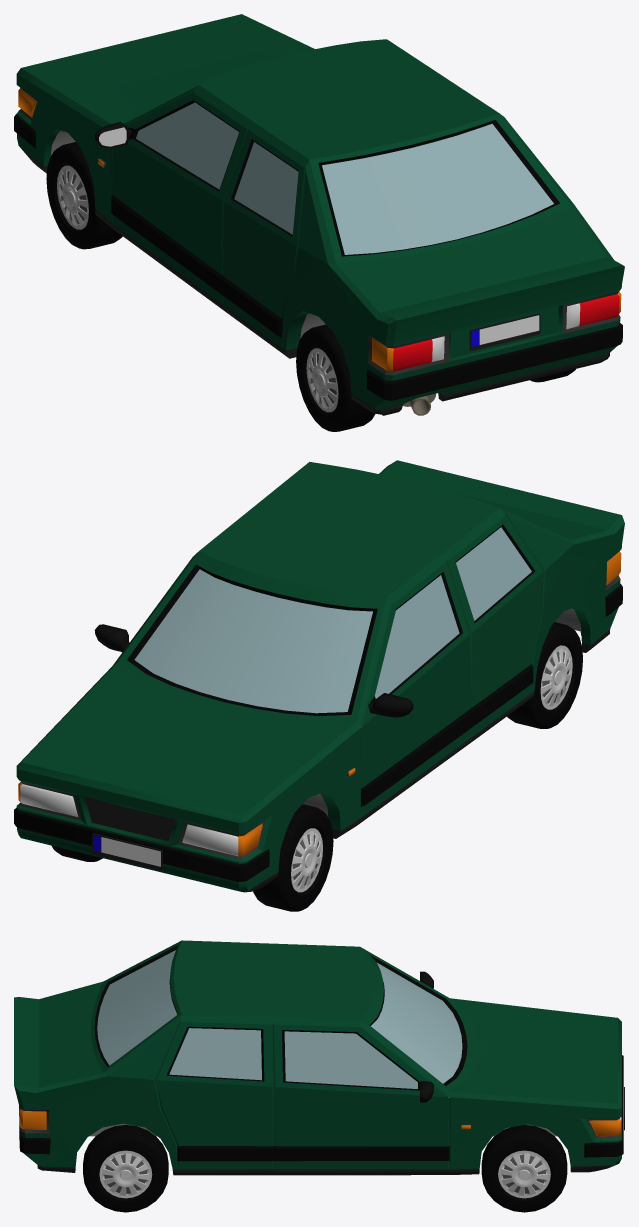
The model's file is car.glb.
3 views of the same model, one above another, from view 1: azimuth 30°, elevation 25°; view 2: azimuth 150°, elevation 25°; view 3: azimuth 270°, elevation 25° (orthographic). The views are drawn at different scales.
Parts seen in each view (by area): view 1: Body, Wheel2, Wheel0, NumberPlateBack; view 2: Body, Wheel0, Wheel2, NumberPlateFront; view 3: Body, Wheel1, Wheel3.
Boxes of the visible parts, box(x1,y1,x2,y2) form: Body: box(14, 14, 624, 415); Wheel2: box(296, 324, 375, 431); Wheel0: box(46, 142, 122, 249); NumberPlateBack: box(469, 313, 540, 350); Body: box(14, 460, 624, 892); Wheel0: box(253, 804, 333, 911); Wheel2: box(507, 622, 582, 728); NumberPlateFront: box(92, 833, 162, 870); Body: box(14, 940, 623, 1175); Wheel1: box(481, 1125, 567, 1212); Wheel3: box(83, 1125, 168, 1212).
Size of the model in its own units: 2.39 by 1.73 by 5.01.
